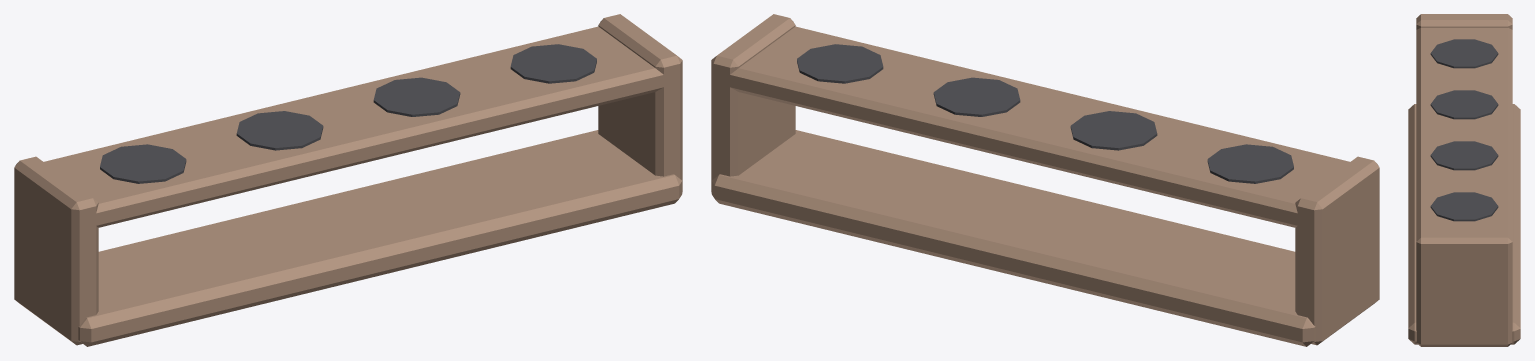
File: Sample_Rack.fbx
3 renders of one model, left to right at view 1: azimuth 30°, elevation 25°; view 2: azimuth 150°, elevation 25°; view 3: azimuth 270°, elevation 25°, orthographic. The views are drawn at different scales.
Visible parts, largest first — view 1: Sample_Rack; view 2: Sample_Rack; view 3: Sample_Rack.
Boxes of the visible parts, left/top/right/bottom form: Sample_Rack: left=14, top=14, right=682, bottom=346; Sample_Rack: left=711, top=14, right=1379, bottom=346; Sample_Rack: left=1408, top=14, right=1520, bottom=346.
Size of the model in its own units: 0.67 by 0.15 by 0.14.
